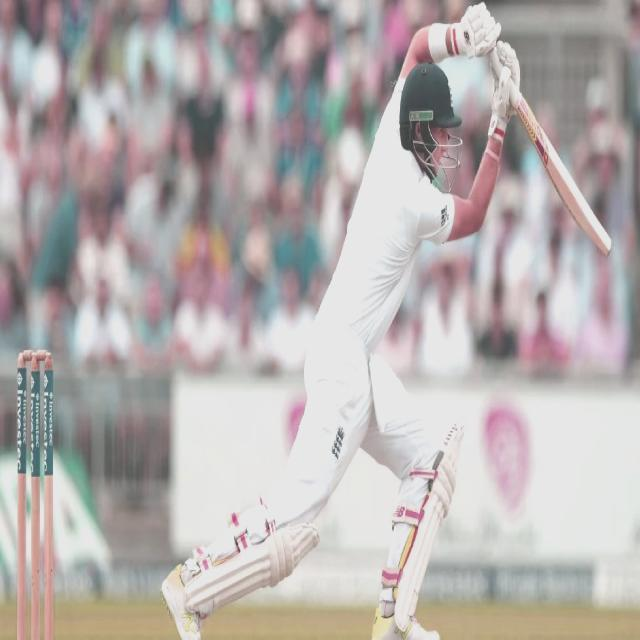bat: (509, 95, 625, 262)
